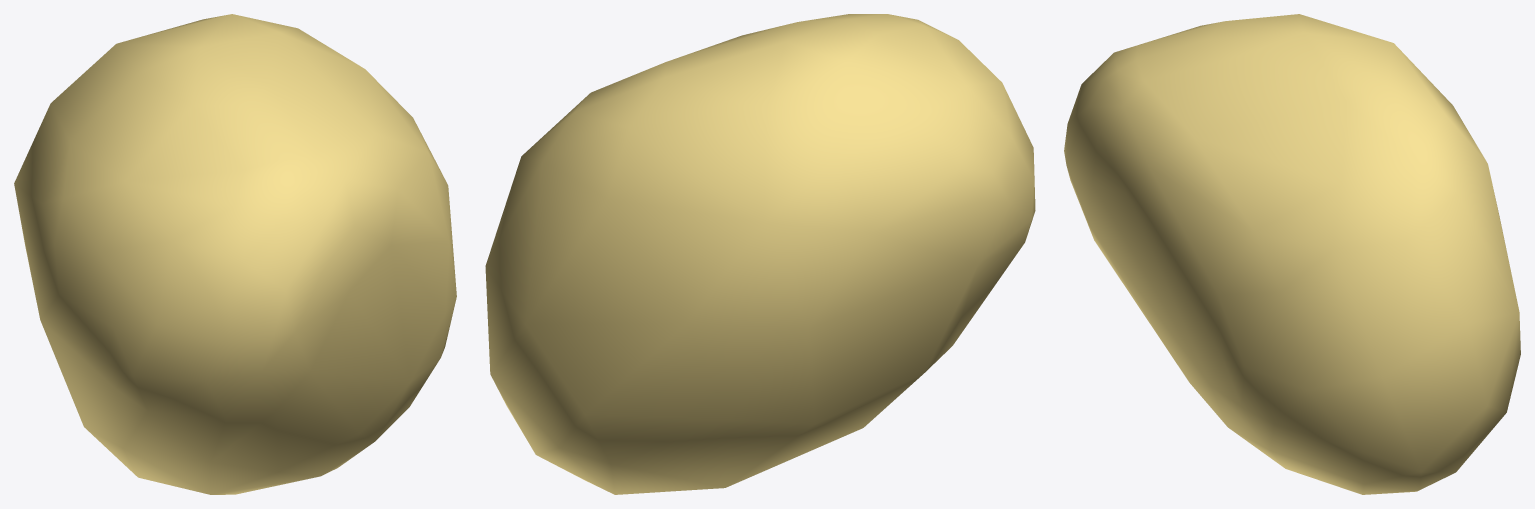
File: fma73434_fj1810.glb
The picture shows the model from 3 angles, left to right: view 1: azimuth 30°, elevation 25°; view 2: azimuth 150°, elevation 25°; view 3: azimuth 270°, elevation 25°; orthographic projection. The views are drawn at different scales.
Visible parts, largest first — view 1: FMA73434_FJ1810; view 2: FMA73434_FJ1810; view 3: FMA73434_FJ1810.
Boxes of the visible parts, box(x1,y1,x2,y2) form: FMA73434_FJ1810: box(14, 14, 456, 494); FMA73434_FJ1810: box(485, 14, 1035, 494); FMA73434_FJ1810: box(1064, 14, 1520, 494).
Size of the model in its own units: 0.00779 by 0.00767 by 0.00781.
